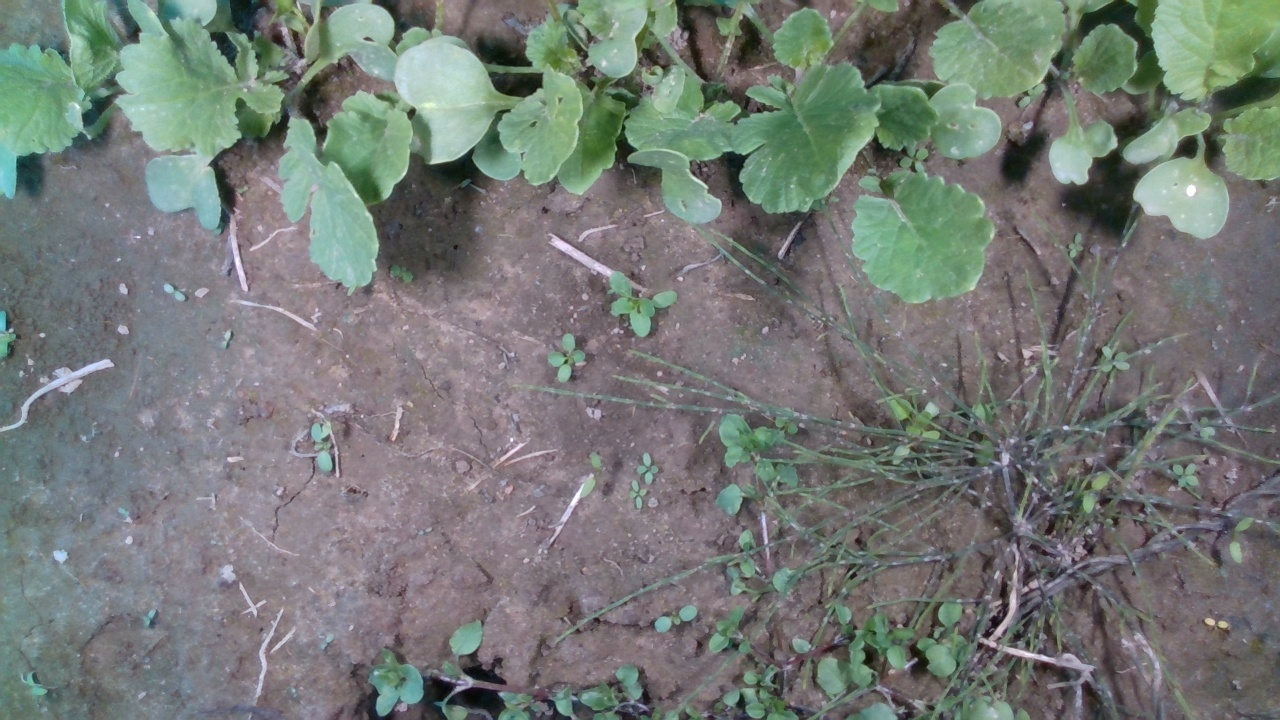weed: (546, 332, 588, 382), (653, 604, 699, 634), (578, 449, 600, 499), (638, 450, 659, 484), (388, 264, 414, 283), (1066, 231, 1084, 258), (162, 282, 185, 302), (1203, 615, 1230, 630), (220, 328, 232, 350)
